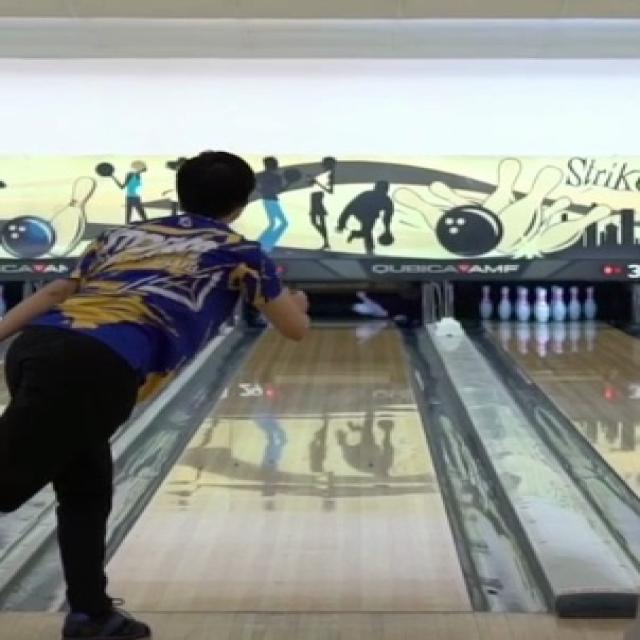alley: (110, 323, 466, 609)
bottle: (352, 293, 384, 317)
